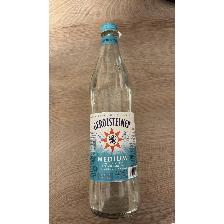Wasser: (86, 22, 141, 220)
